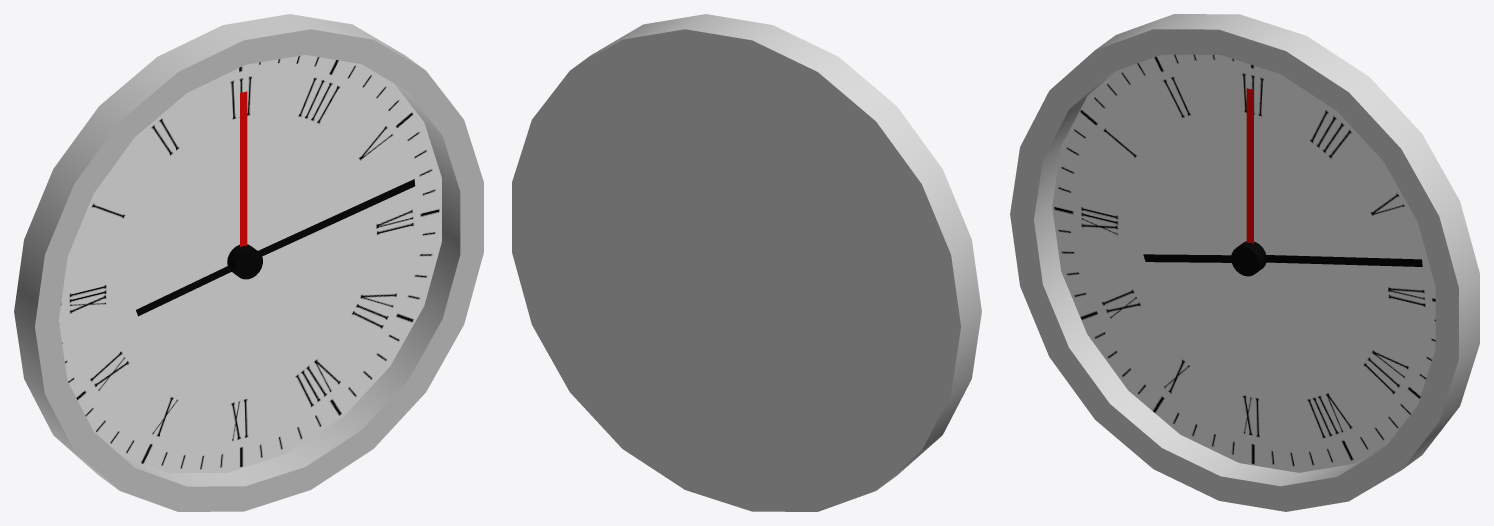
File: Clock.FBX
3 renders of one model, left to right at view 1: azimuth 30°, elevation 25°; view 2: azimuth 150°, elevation 25°; view 3: azimuth 330°, elevation 25°, orthographic.
Visible parts, largest first — view 1: Circle001, Cylinder005, Line002, Line001; view 2: Cylinder005; view 3: Circle001, Cylinder005, Line002, Line001.
Boxes of the visible parts, bbox=[...] form: Circle001: bbox=[58, 55, 441, 473]; Cylinder005: bbox=[14, 14, 483, 511]; Line002: bbox=[136, 179, 415, 316]; Line001: bbox=[240, 91, 247, 247]; Cylinder005: bbox=[512, 14, 981, 511]; Circle001: bbox=[1052, 54, 1435, 472]; Cylinder005: bbox=[1010, 14, 1479, 511]; Line002: bbox=[1143, 241, 1422, 276]; Line001: bbox=[1246, 88, 1253, 243].
Size of the model in its own units: 762 by 765 by 61.21.
4 materials, 1 textured.
